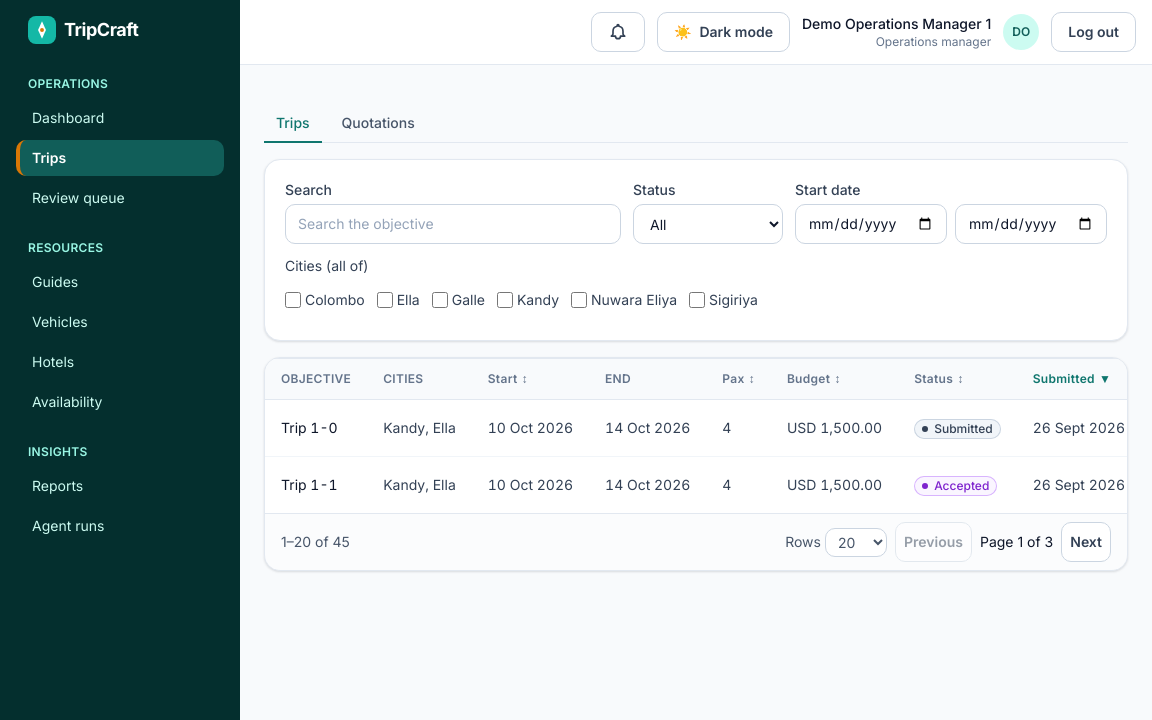
Test: TripsListPage › renders rows and pagination from the API
The image size is (1152, 720).
Expected: the text "Trip 1-0" is shown, [265,400,367,456]
Expected: the text "Accepted" is shown, [914,476,997,496]
Click the button "Next" at [1086, 542], box [1061,522,1111,562]
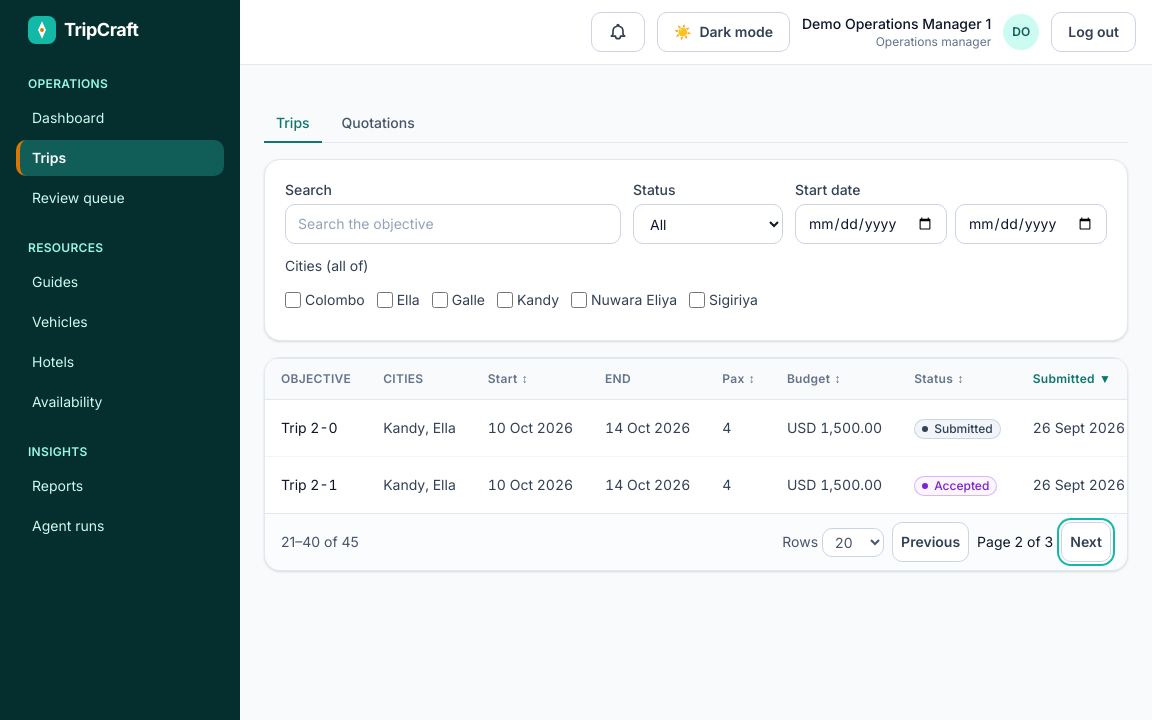
Now the text "Trip 2-0" is shown, box [265,400,367,456]
